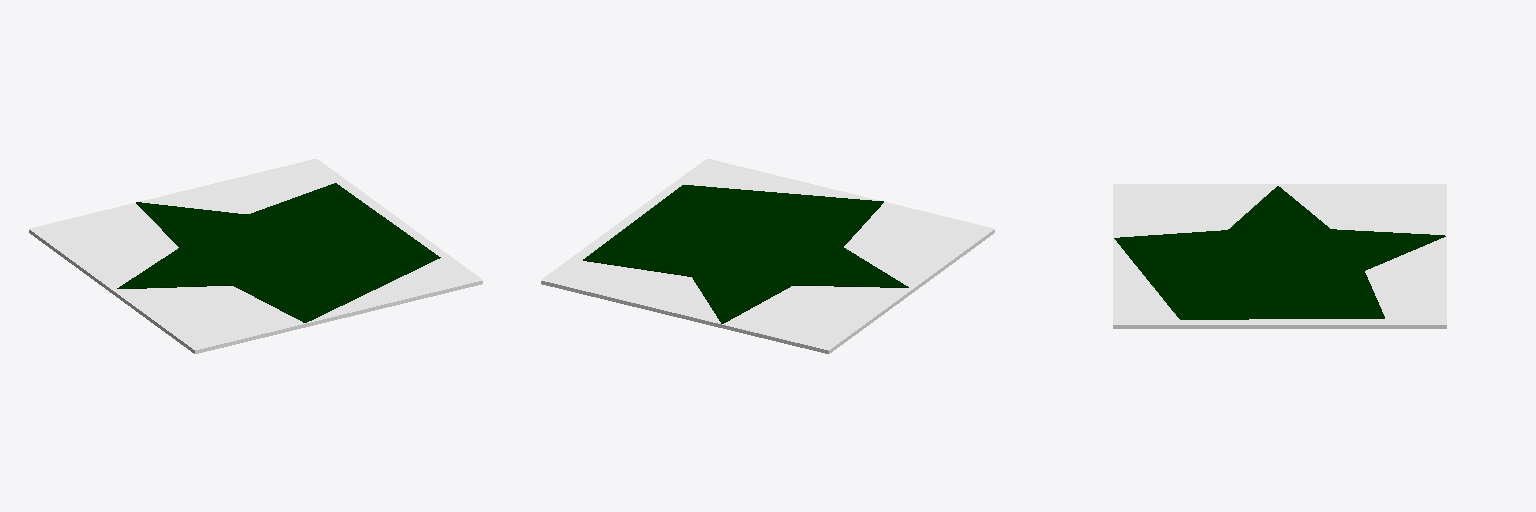
Rendered from EST.obj.
3 views of the same model, side by side, from view 1: azimuth 30°, elevation 25°; view 2: azimuth 150°, elevation 25°; view 3: azimuth 270°, elevation 25° (orthographic).
Visible parts, largest first — view 1: Plane.010, Plane; view 2: Plane.010, Plane; view 3: Plane.010, Plane.
Part boxes in pixels (x1,y1,x2,y2): Plane.010: (29,159,482,353); Plane: (117,183,440,322); Plane.010: (541,159,994,353); Plane: (583,185,908,323); Plane.010: (1113,184,1446,328); Plane: (1114,186,1445,319).
Bounding box in the file's own units: 0.8 × 0.0123 × 0.8.